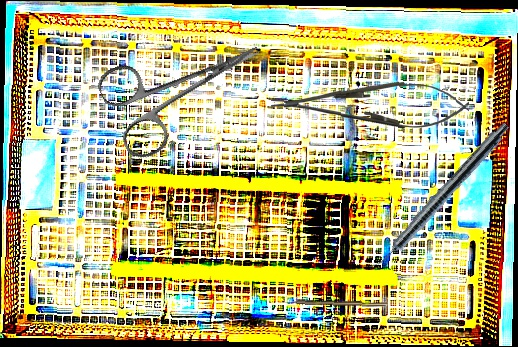Handpiece: (366, 117, 513, 277)
Hook Surgical: (280, 298, 387, 308)
Iris Scissors: (93, 9, 280, 165)
Needle Holder: (270, 78, 470, 130)
